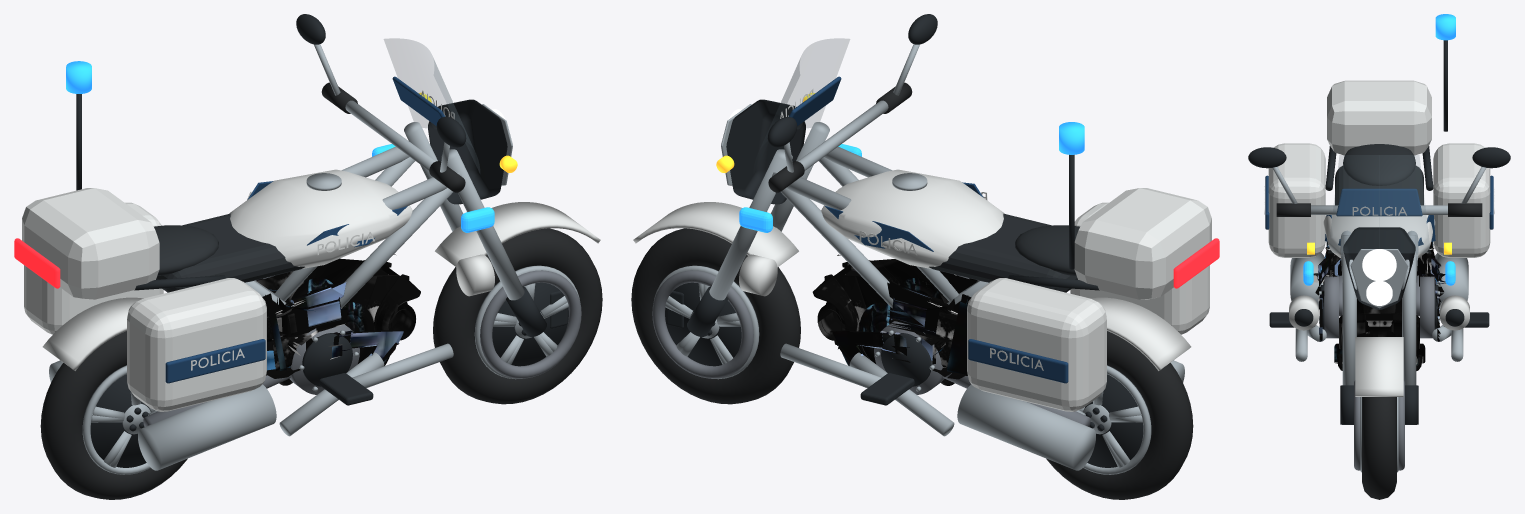
File: traffic_bike.glb
3 views of the same model, side by side, from view 1: azimuth 30°, elevation 25°; view 2: azimuth 150°, elevation 25°; view 3: azimuth 270°, elevation 25° (orthographic). The views are drawn at different scales.
Parts seen in each view (by area): view 1: Batch_Pearl white paint, Batch_Machined aluminium.002, Tire_F, Licensed motorcycle drivetrain detail, Batch_Graphite.002, Tire_R, Batch_Black upholstery, Batch_Brake rotor.002, Batch_Deep blue enamel, Curved clear windscreen, Batch_Machined aluminium.001, Batch_Graphite.001 (+5 smaller); view 2: Batch_Pearl white paint, Batch_Machined aluminium.002, Licensed motorcycle drivetrain detail, Tire_F, Batch_Graphite.002, Tire_R, Batch_Black upholstery, Batch_Brake rotor.002, Batch_Deep blue enamel, Curved clear windscreen, Batch_Machined aluminium.001, Batch_Graphite.001 (+5 smaller); view 3: Batch_Pearl white paint, Batch_Machined aluminium.002, Curved clear windscreen, Batch_Graphite.002, Licensed motorcycle drivetrain detail, Batch_Black upholstery, Tire_F, Batch_Brake rotor.002, Batch_Deep blue enamel, Batch_Headlamp LED, Batch_Blue emergency lens, Batch_Tire rubber (+1 smaller).
Part boxes in pixels (x1=…): Batch_Pearl white paint: x1=22, y1=90, x2=600, y2=411; Batch_Machined aluminium.002: x1=49, y1=44, x2=524, y2=470; Tire_F: x1=433, y1=228, x2=602, y2=404; Licensed motorcycle drivetrain detail: x1=256, y1=254, x2=420, y2=385; Batch_Graphite.002: x1=76, y1=14, x2=546, y2=405; Tire_R: x1=40, y1=331, x2=187, y2=499; Batch_Black upholstery: x1=154, y1=213, x2=304, y2=292; Batch_Brake rotor.002: x1=143, y1=270, x2=581, y2=426; Batch_Deep blue enamel: x1=165, y1=76, x2=445, y2=383; Curved clear windscreen: x1=384, y1=38, x2=479, y2=172; Batch_Machined aluminium.001: x1=82, y1=365, x2=154, y2=474; Batch_Graphite.001: x1=82, y1=365, x2=150, y2=467; Batch_Pearl white paint: x1=633, y1=89, x2=1211, y2=411; Batch_Machined aluminium.002: x1=709, y1=44, x2=1184, y2=470; Licensed motorcycle drivetrain detail: x1=812, y1=254, x2=977, y2=385; Tire_F: x1=631, y1=228, x2=800, y2=404; Batch_Graphite.002: x1=687, y1=14, x2=1099, y2=405; Tire_R: x1=1046, y1=331, x2=1193, y2=499; Batch_Black upholstery: x1=929, y1=213, x2=1079, y2=292; Batch_Brake rotor.002: x1=652, y1=270, x2=1090, y2=426; Batch_Deep blue enamel: x1=788, y1=76, x2=1068, y2=383; Curved clear windscreen: x1=754, y1=38, x2=849, y2=172; Batch_Machined aluminium.001: x1=1079, y1=365, x2=1151, y2=474; Batch_Graphite.001: x1=1083, y1=365, x2=1151, y2=467; Batch_Pearl white paint: x1=1264, y1=80, x2=1494, y2=396; Batch_Machined aluminium.002: x1=1272, y1=166, x2=1486, y2=385; Curved clear windscreen: x1=1328, y1=155, x2=1430, y2=252; Batch_Graphite.002: x1=1248, y1=40, x2=1510, y2=424; Licensed motorcycle drivetrain detail: x1=1313, y1=241, x2=1445, y2=370; Batch_Black upholstery: x1=1335, y1=144, x2=1423, y2=205; Tire_F: x1=1362, y1=397, x2=1396, y2=499; Batch_Brake rotor.002: x1=1324, y1=275, x2=1434, y2=470; Batch_Deep blue enamel: x1=1265, y1=175, x2=1493, y2=245; Batch_Headlamp LED: x1=1362, y1=249, x2=1396, y2=305; Batch_Blue emergency lens: x1=1303, y1=14, x2=1455, y2=285; Batch_Tire rubber: x1=1276, y1=203, x2=1482, y2=216.
Size of the model in its own units: 2.28 by 1.54 by 1.15.
Materials: 13 (1 with a texture image).
